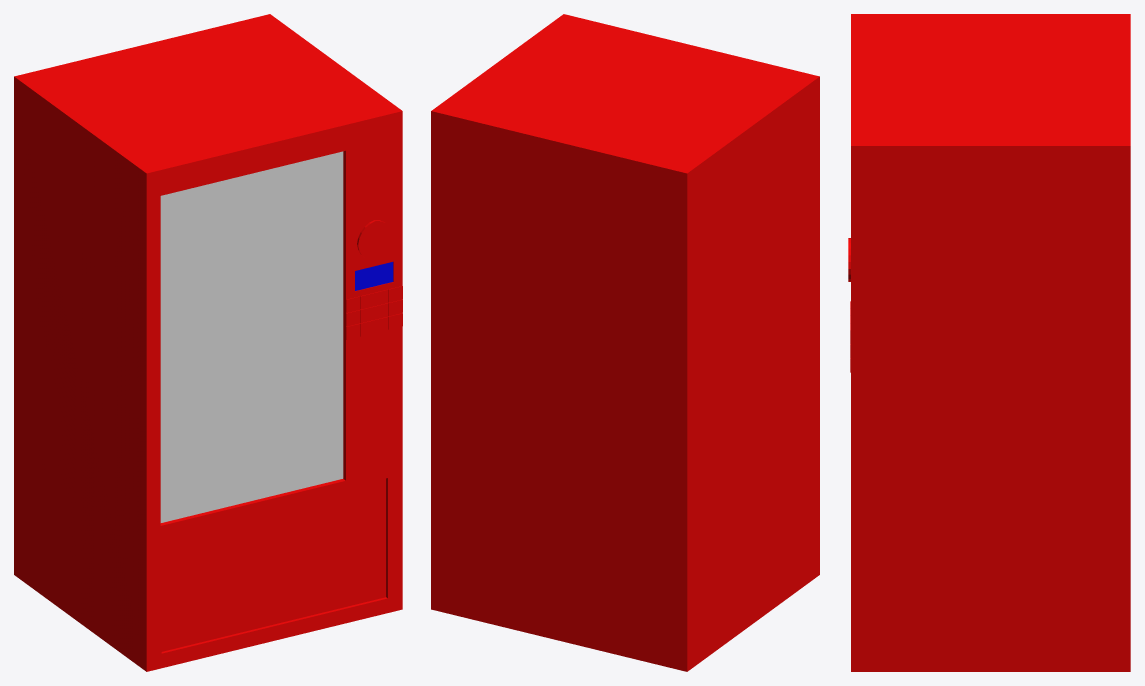
File: Vending machine.fbx
3 views of the same model, side by side, from view 1: azimuth 30°, elevation 25°; view 2: azimuth 150°, elevation 25°; view 3: azimuth 270°, elevation 25° (orthographic). The views are drawn at different scales.
Parts seen in each view (by area): view 1: Cube, Plane; view 2: Cube; view 3: Cube.
Boxes of the visible parts, left/top/right/bottom form: Cube: left=14, top=14, right=402, bottom=671; Plane: left=160, top=151, right=343, bottom=522; Cube: left=431, top=14, right=819, bottom=671; Cube: left=848, top=14, right=1130, bottom=671.
Size of the model in its own units: 99 by 89.64 by 184.
